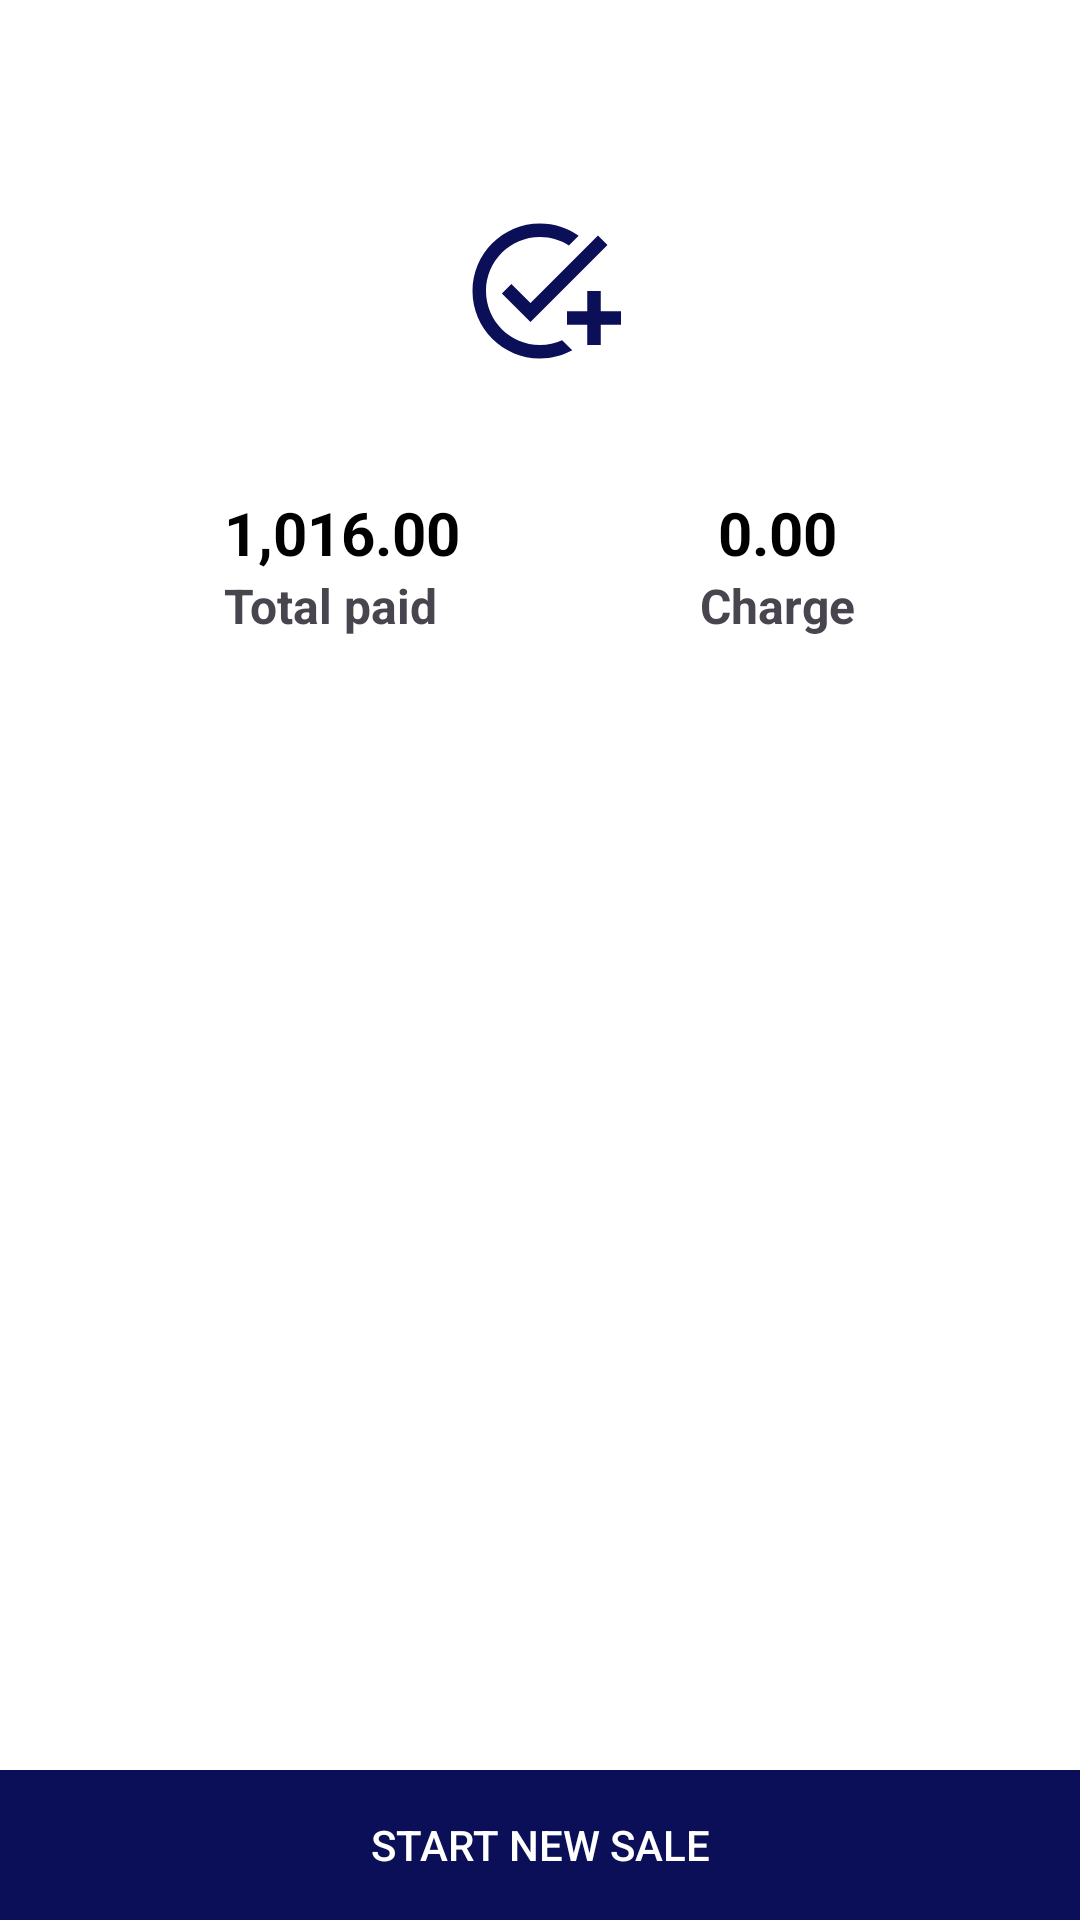

Named icons in this screenshot (1080*1920) and their centers, (x,y):
add task: (546,291)
